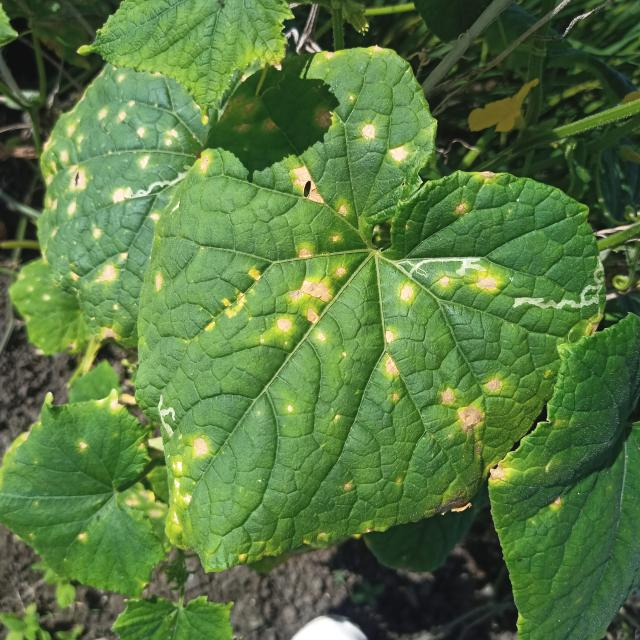disease_cucumber: (145, 89, 516, 523), (36, 66, 189, 299)
